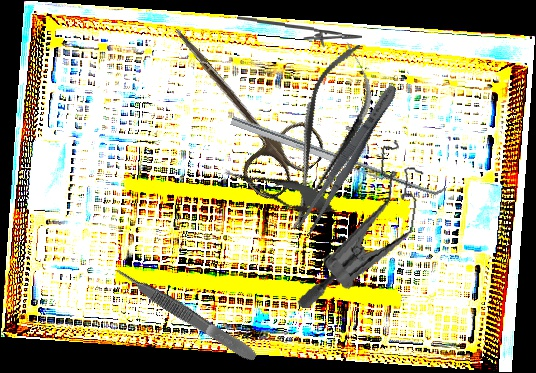Dressing Forceps: (294, 81, 403, 237)
Iris Scissors: (140, 3, 333, 207)
Micro Scissor: (264, 35, 389, 239), (219, 157, 342, 224)
Needle Holder: (236, 15, 363, 49)
Spatula Surgical: (230, 107, 448, 202)
Speculum: (296, 128, 430, 324)
Tissue Forceps: (113, 262, 260, 366)
